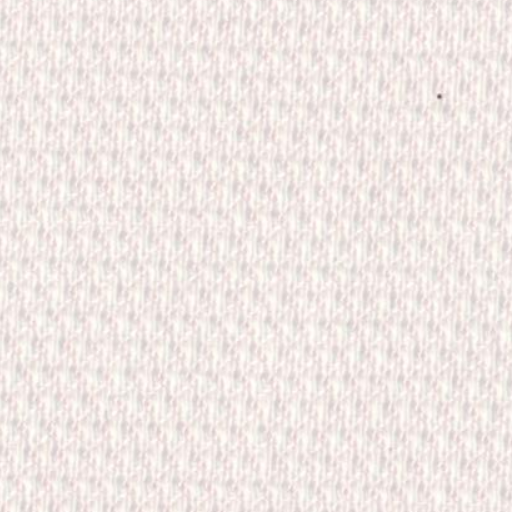WuZi: (412, 72, 456, 118)
